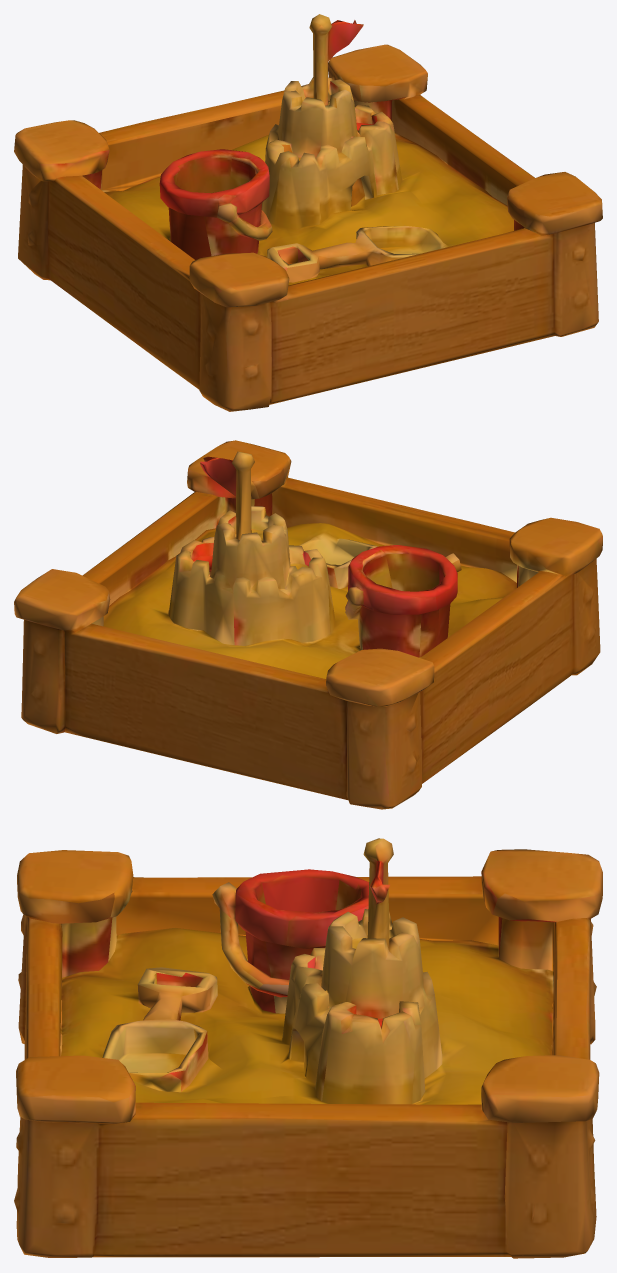
The model's file is sandbox.glb.
3 renders of one model, top to bottom at view 1: azimuth 30°, elevation 25°; view 2: azimuth 150°, elevation 25°; view 3: azimuth 270°, elevation 25°, orthographic. The views are drawn at different scales.
Visible parts, largest first — view 1: textured_mesh.obj; view 2: textured_mesh.obj; view 3: textured_mesh.obj.
Boxes of the visible parts, x1=… form: textured_mesh.obj: x1=14, y1=14, x2=602, y2=411; textured_mesh.obj: x1=14, y1=440, x2=602, y2=809; textured_mesh.obj: x1=14, y1=838, x2=602, y2=1258.
Size of what is drawn, in the model's own units: 2.4 by 1.48 by 2.38.
Materials: 1 (1 with a texture image).
